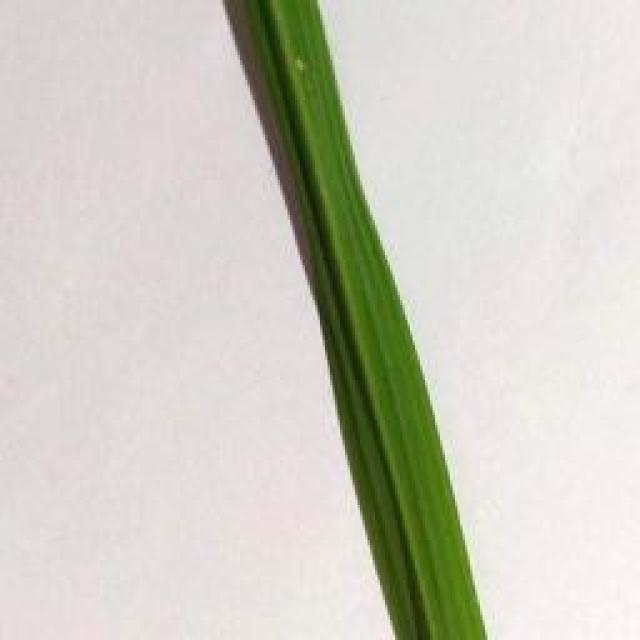Healthy-Plant: (266, 72, 488, 640)
